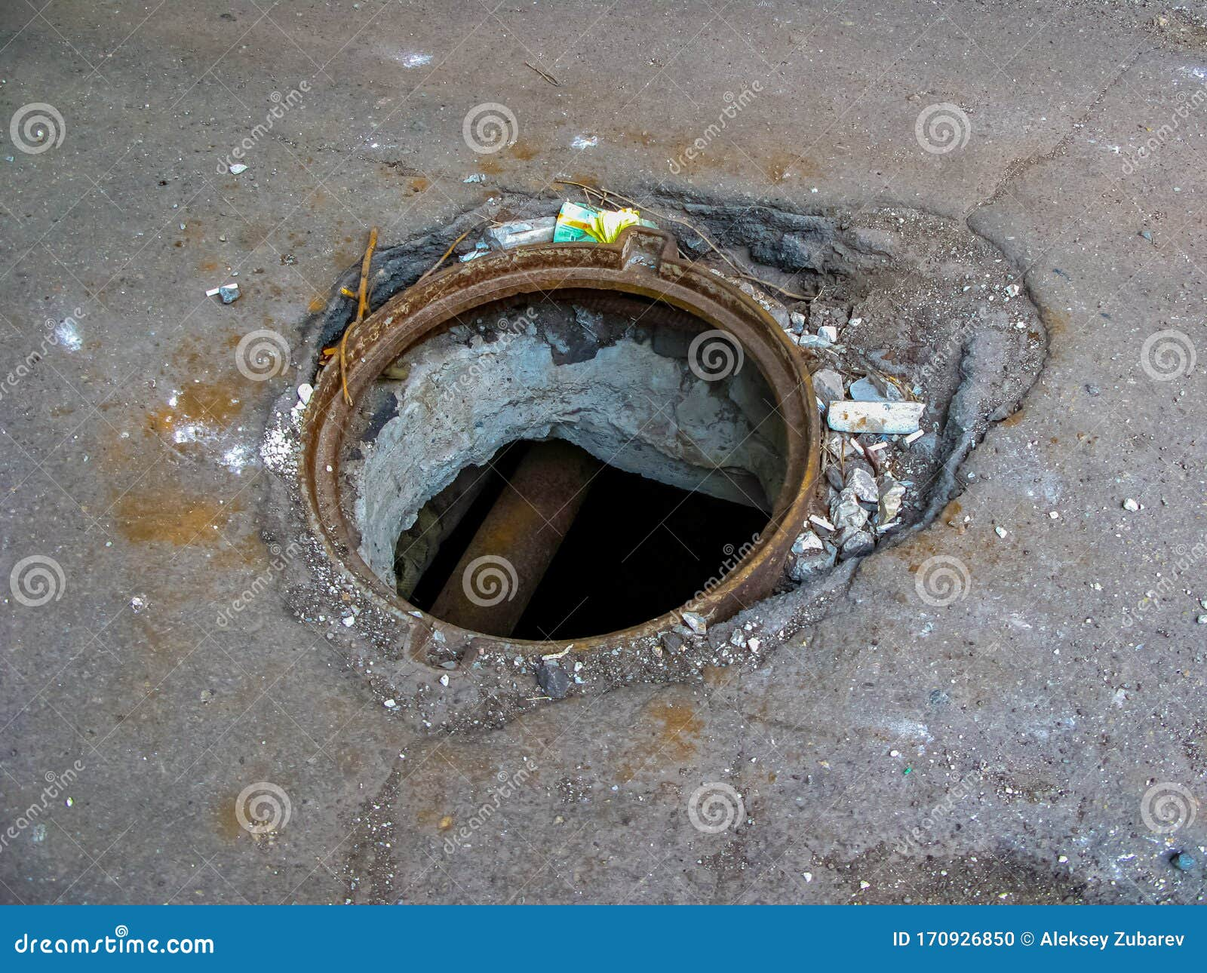Open_manhole: (221, 149, 1043, 745)
